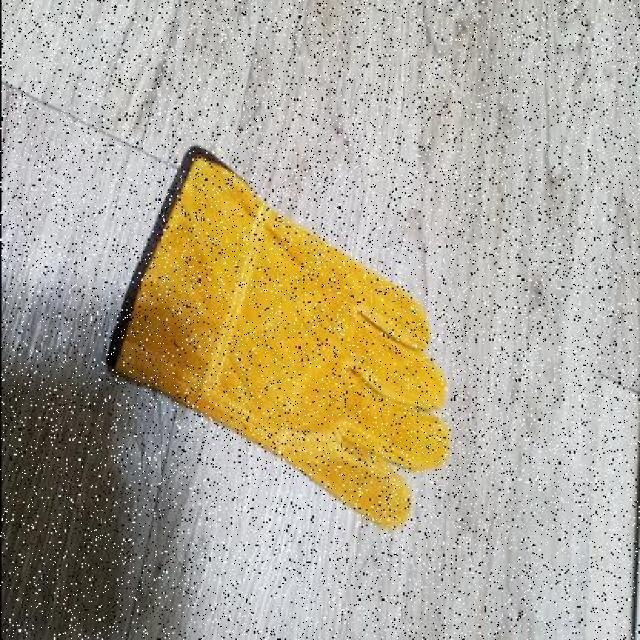Guantes: (105, 145, 452, 531)
